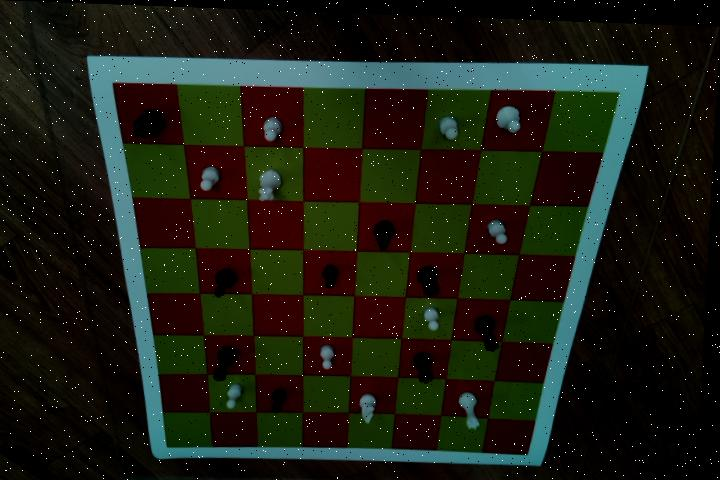chessboard-detect: (112, 82, 621, 451)
